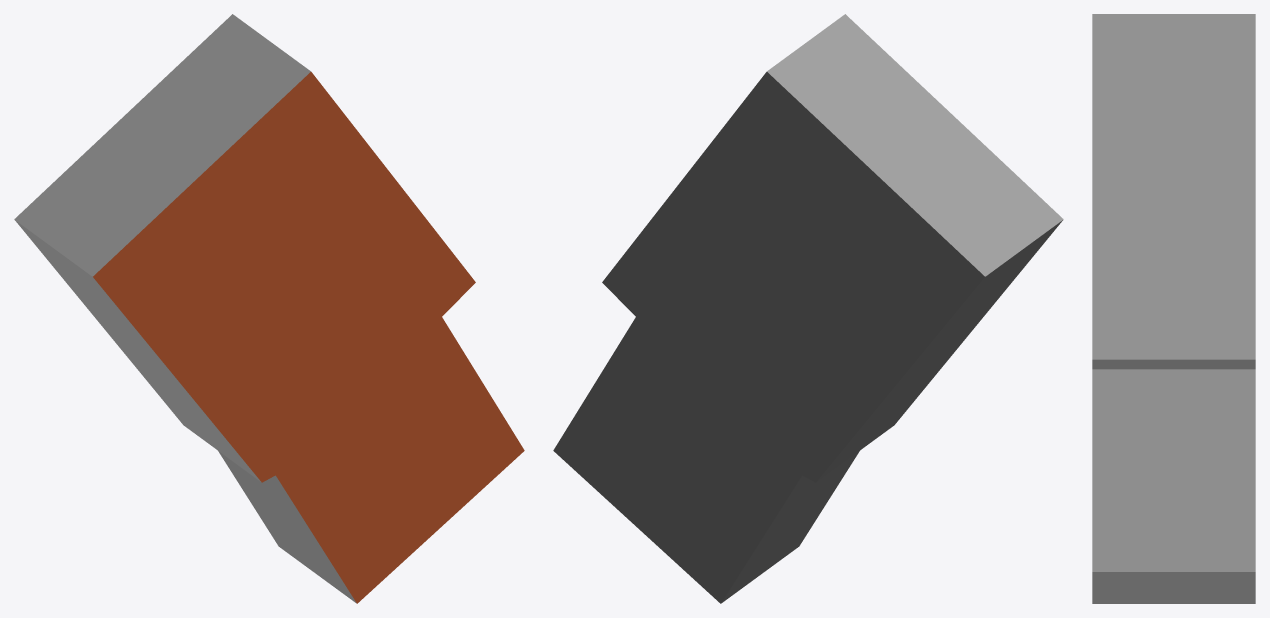
File: construction_3572_assumed_A_Casa_h6m.obj
3 renders of one model, left to right at view 1: azimuth 30°, elevation 25°; view 2: azimuth 150°, elevation 25°; view 3: azimuth 270°, elevation 25°, orthographic. The views are drawn at different scales.
Visible parts, largest first — view 1: construction_3572_assumed_A_Casa; view 2: construction_3572_assumed_A_Casa; view 3: construction_3572_assumed_A_Casa.
Part boxes in pixels (x1,y1,x2,y2): construction_3572_assumed_A_Casa: (14,14,524,603); construction_3572_assumed_A_Casa: (553,14,1063,603); construction_3572_assumed_A_Casa: (1092,14,1255,603).
Bounding box in the file's own units: 19.06 × 22.92 × 6.
